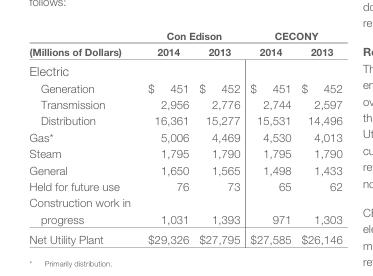table: (28, 28, 341, 245)
table column: (28, 28, 138, 245), (138, 28, 193, 245), (193, 28, 244, 245), (244, 28, 295, 245), (295, 28, 341, 245)
table column header: (28, 28, 341, 60)
table projected row header: (28, 60, 341, 79)
table row: (28, 193, 341, 228), (28, 60, 341, 79), (28, 42, 341, 60), (28, 111, 341, 128), (28, 144, 341, 161), (28, 228, 341, 245), (28, 79, 341, 95), (28, 95, 341, 111), (28, 128, 341, 144), (28, 161, 341, 177), (28, 177, 341, 193), (28, 28, 341, 42)
table spanning cell: (28, 28, 138, 60), (138, 28, 244, 42), (244, 28, 341, 42)
